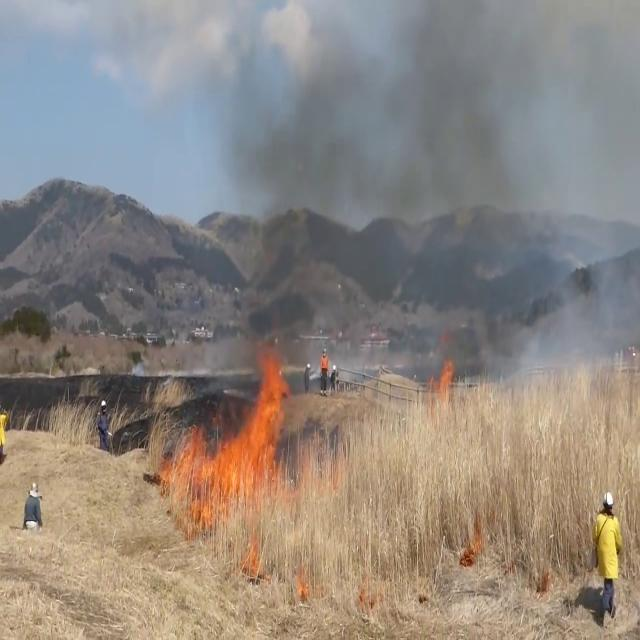Fire: (161, 338, 295, 516), (436, 345, 458, 398)
Smoke: (212, 1, 640, 370), (393, 0, 640, 388)
